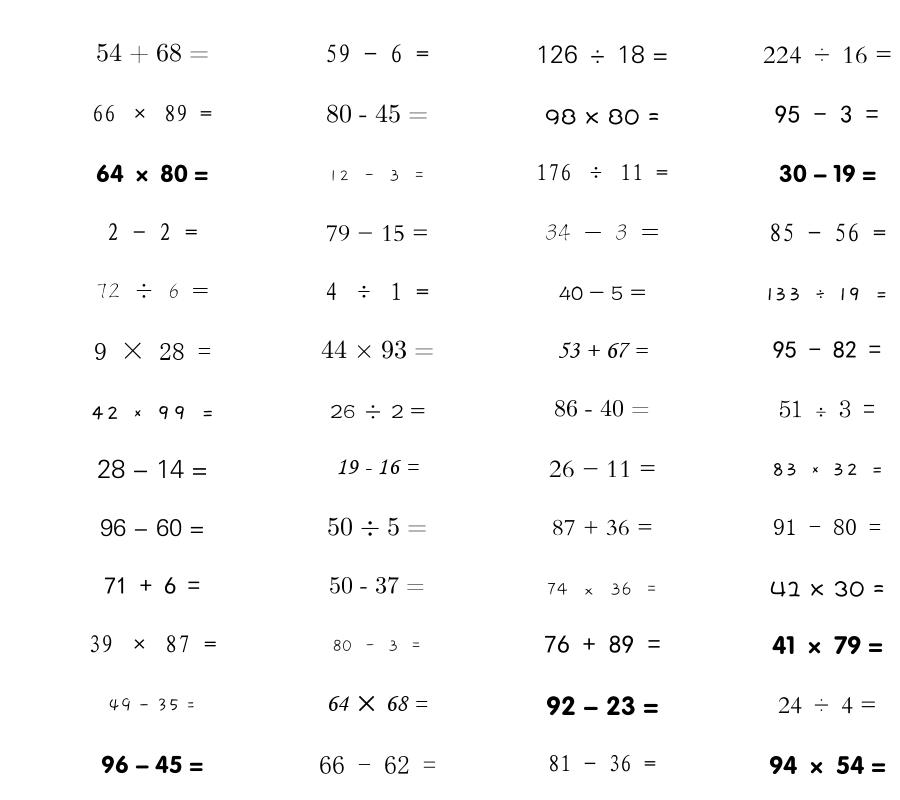MQ: (536, 45, 668, 64), (536, 163, 668, 181), (96, 43, 209, 64), (769, 755, 886, 775), (763, 46, 892, 64), (88, 635, 217, 653), (546, 696, 659, 716), (769, 223, 886, 242), (97, 459, 208, 479), (772, 635, 883, 655), (92, 104, 212, 122), (321, 340, 434, 359), (96, 164, 208, 183), (94, 342, 211, 360), (544, 635, 661, 653), (319, 756, 436, 774), (545, 223, 659, 241), (100, 518, 205, 537), (325, 44, 429, 63), (325, 282, 429, 301), (545, 108, 660, 125), (548, 754, 656, 772), (326, 104, 428, 123), (101, 755, 203, 774), (549, 460, 656, 478), (327, 517, 427, 536), (775, 105, 879, 123), (779, 164, 876, 183), (770, 581, 885, 597), (773, 341, 881, 358), (96, 283, 209, 299), (326, 225, 429, 242), (90, 406, 215, 420), (326, 695, 428, 712), (554, 399, 650, 417), (779, 400, 875, 418), (773, 519, 881, 535), (329, 576, 425, 594), (552, 519, 653, 536), (766, 287, 888, 301), (778, 697, 877, 714), (107, 223, 198, 241), (104, 577, 200, 594), (546, 582, 658, 596), (771, 463, 884, 476), (557, 342, 648, 358), (330, 404, 425, 419), (336, 459, 419, 475), (559, 286, 646, 301), (108, 698, 196, 712), (328, 170, 426, 182), (332, 639, 422, 652)
